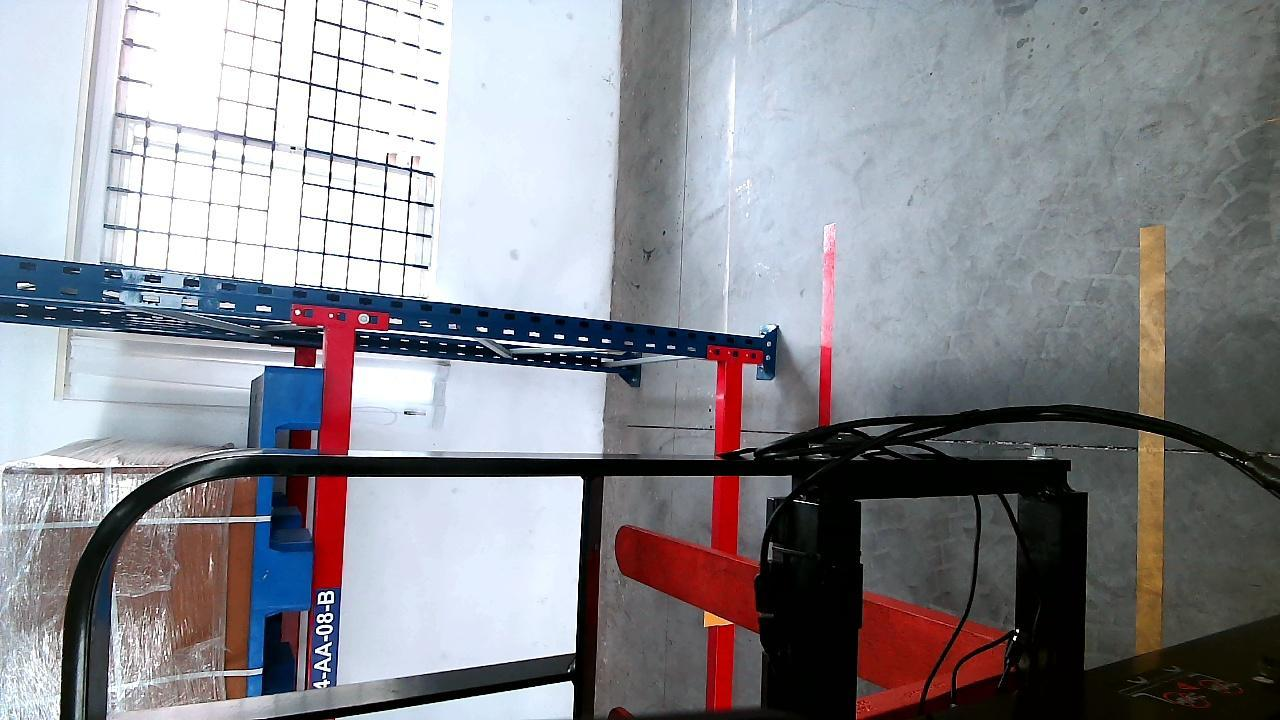red_line: (816, 226, 835, 422)
yellow_line: (1137, 223, 1165, 666)
